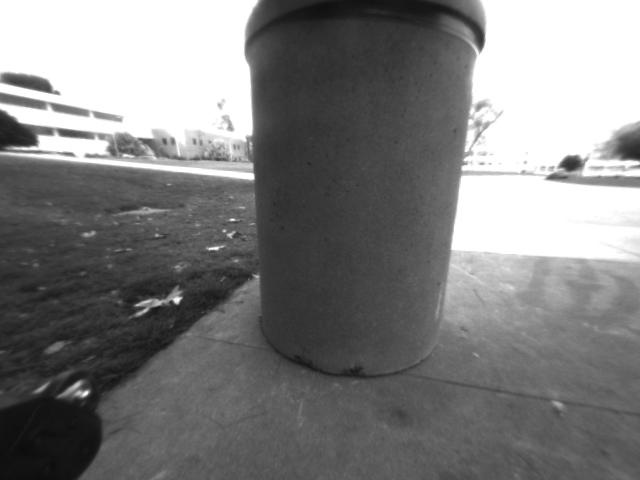trashcan: (238, 1, 497, 387)
